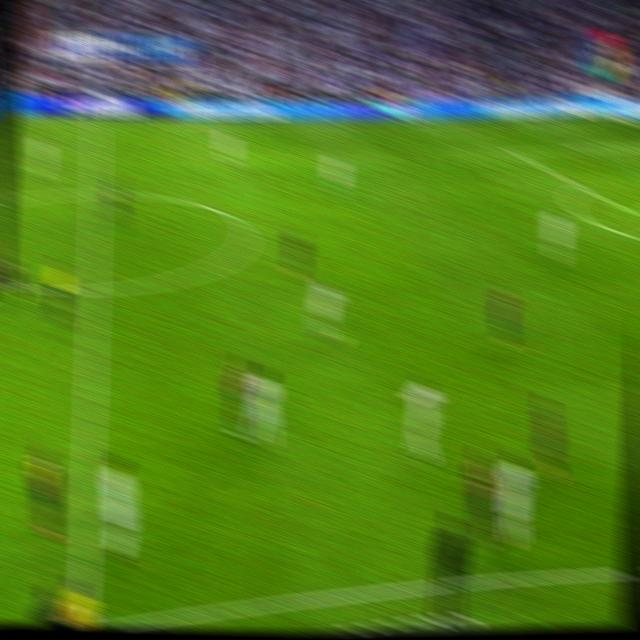halfcircle_bottom: (82, 272, 104, 305)
halfcircle_top: (85, 181, 105, 205)
midline_top_intersection: (88, 114, 105, 131)
top_arc_area_intersection: (574, 178, 592, 196)
